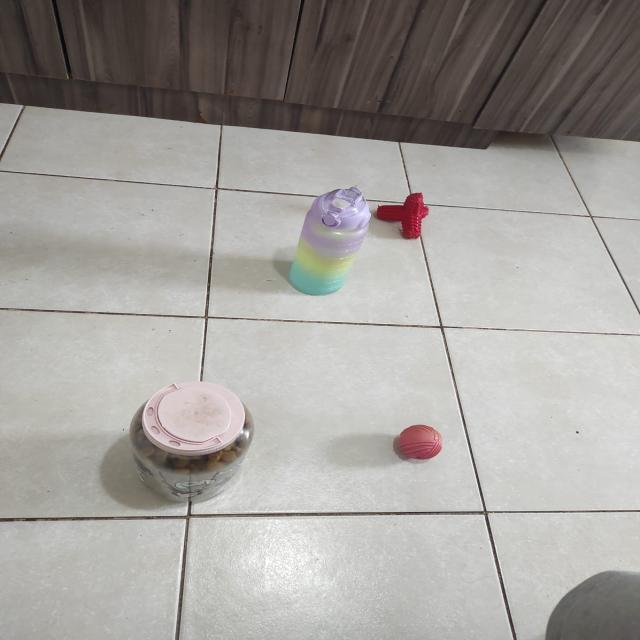bolinha: (390, 418, 445, 464)
brinquedo caro: (378, 190, 438, 244)
garrafinha de agua: (268, 171, 374, 302)
racao: (118, 379, 255, 509)
